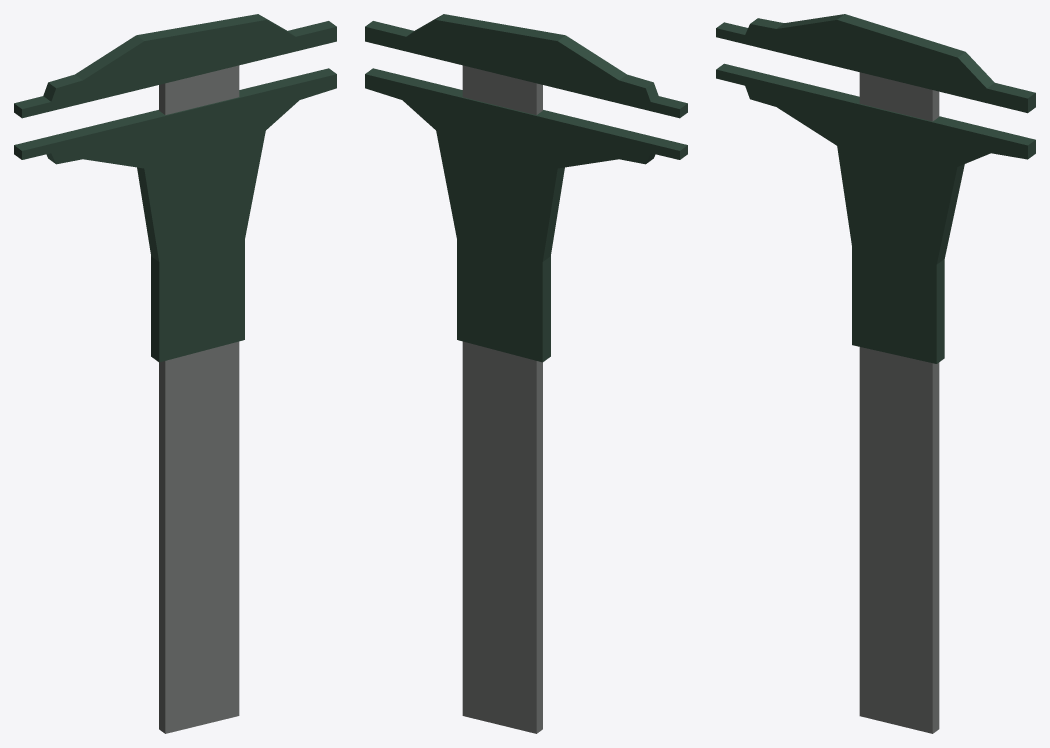
Rendered from SM_Tool_04_A.glb.
3 views of the same model, side by side, from view 1: azimuth 30°, elevation 25°; view 2: azimuth 150°, elevation 25°; view 3: azimuth 330°, elevation 25° (orthographic).
Visible parts, largest first — view 1: SM_Tool_04_A; view 2: SM_Tool_04_A; view 3: SM_Tool_04_A.
Boxes of the visible parts, x1,y1,x2,y2 form: SM_Tool_04_A: [14, 14, 336, 733]; SM_Tool_04_A: [365, 14, 687, 733]; SM_Tool_04_A: [716, 14, 1035, 733].
Size of the model in its own units: 0.1104 by 0.2341 by 0.00489.
Materials: 1 (1 with a texture image).
